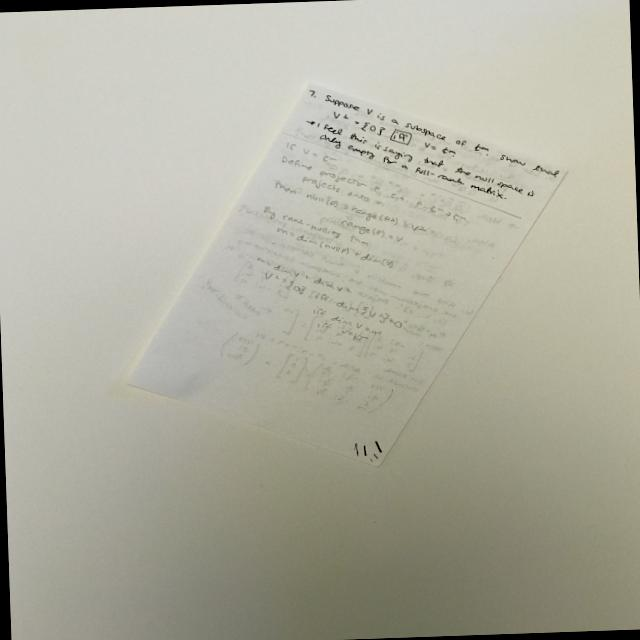Paper: (85, 79, 602, 488)
